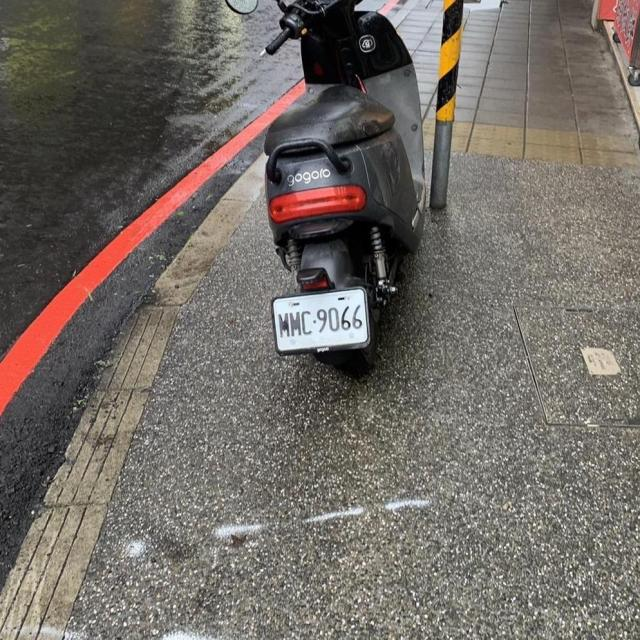W: (264, 278, 374, 360)
